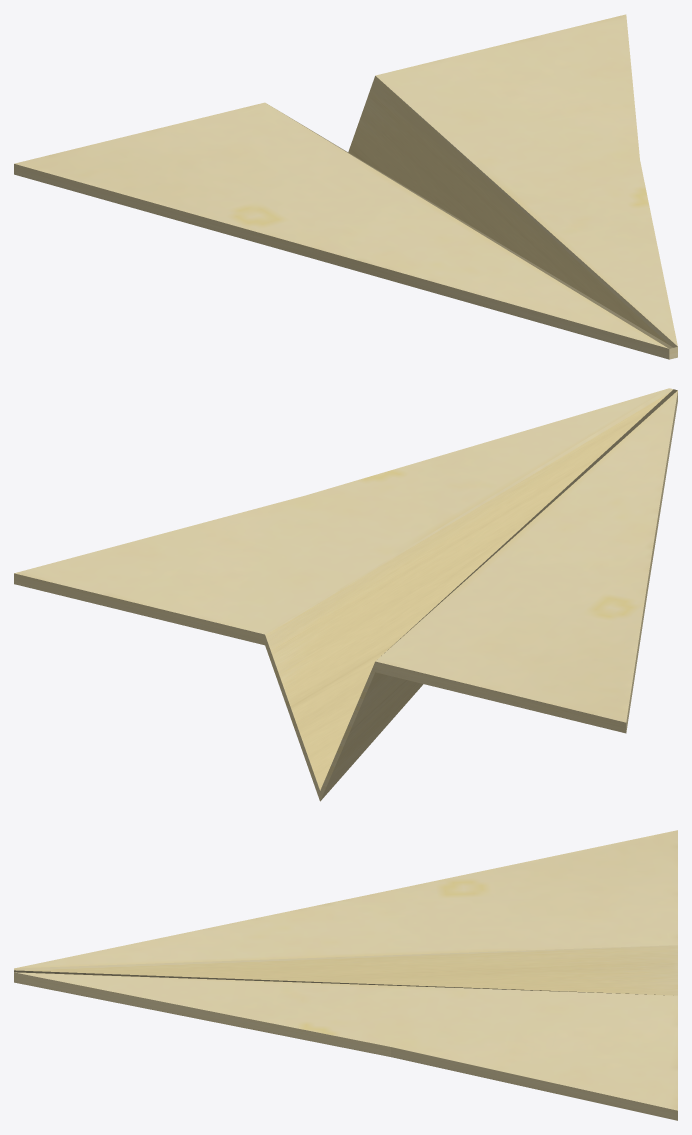
File: paper air.fbx
The picture shows the model from 3 angles, top to bottom: view 1: azimuth 30°, elevation 25°; view 2: azimuth 150°, elevation 25°; view 3: azimuth 270°, elevation 25°; orthographic projection. The views are drawn at different scales.
Parts seen in each view (by area): view 1: paper; view 2: paper; view 3: paper.
Boxes of the visible parts, bbox=[...] form: paper: bbox=[14, 14, 677, 359]; paper: bbox=[14, 388, 677, 801]; paper: bbox=[14, 830, 677, 1120].
Size of the model in its own units: 40.91 by 9.82 by 40.91.
1 material, 1 textured.
